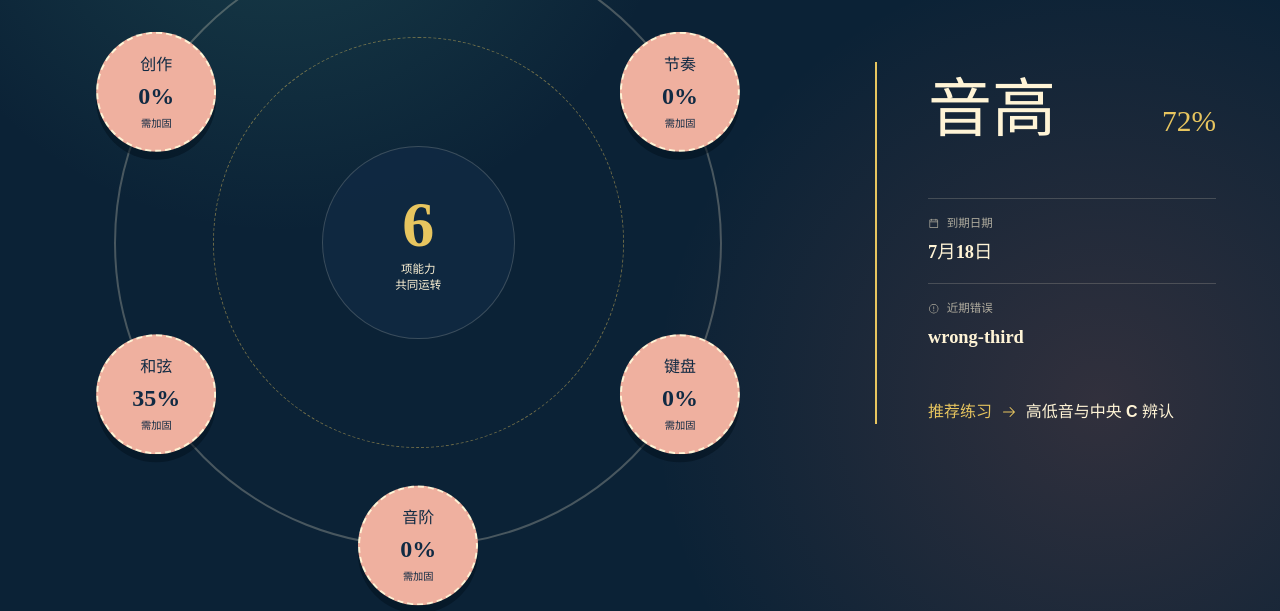
Scenario: builds orbit mastery and recent errors from attempts and reviews
(page scrolled)
Click the button "和弦 35% 需加固". click: [156, 394]
box: [96,334,216,454]
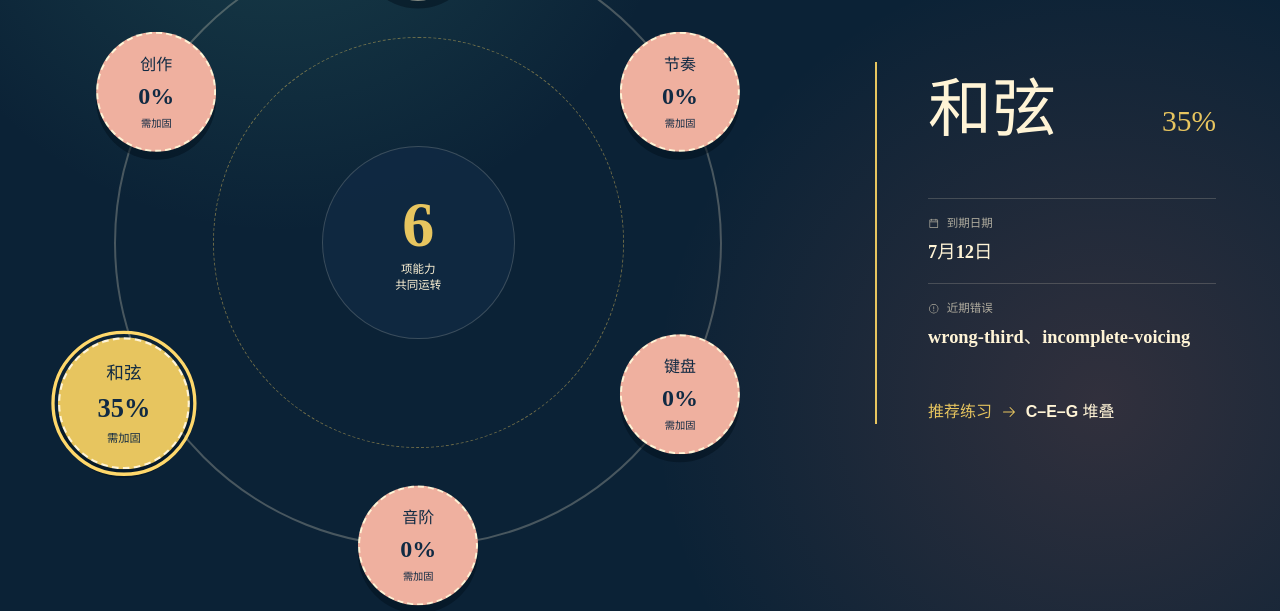
Expected: the button with aria-label "和弦，掌握度 35%" is shown, [58,337,190,469]
Now the text "wrong-third、incomplete-voicing" is shown, box [928,324,1216,352]
